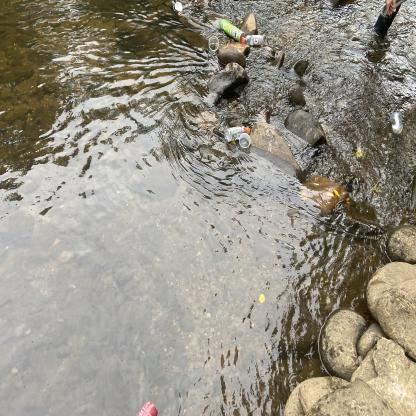trash: (218, 18, 247, 44), (133, 397, 162, 416), (223, 125, 252, 142), (239, 31, 266, 49), (388, 108, 405, 136), (237, 130, 252, 151), (206, 34, 219, 55), (172, 0, 184, 15)
